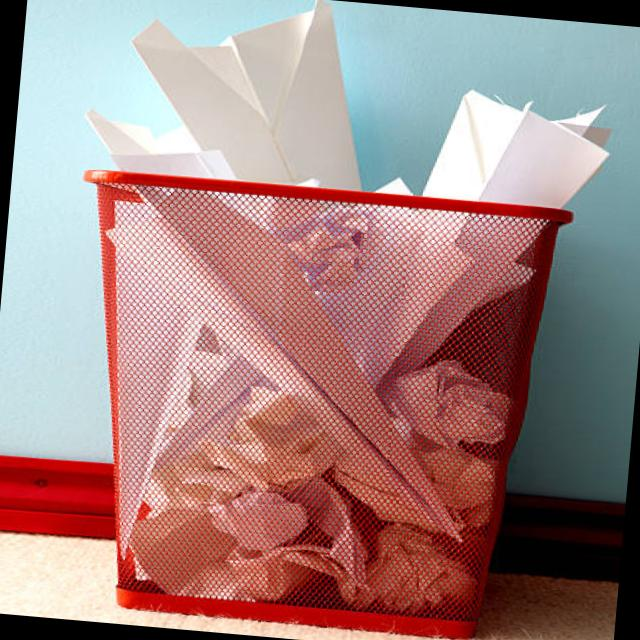electronic: (116, 0, 379, 191), (419, 84, 613, 212)
